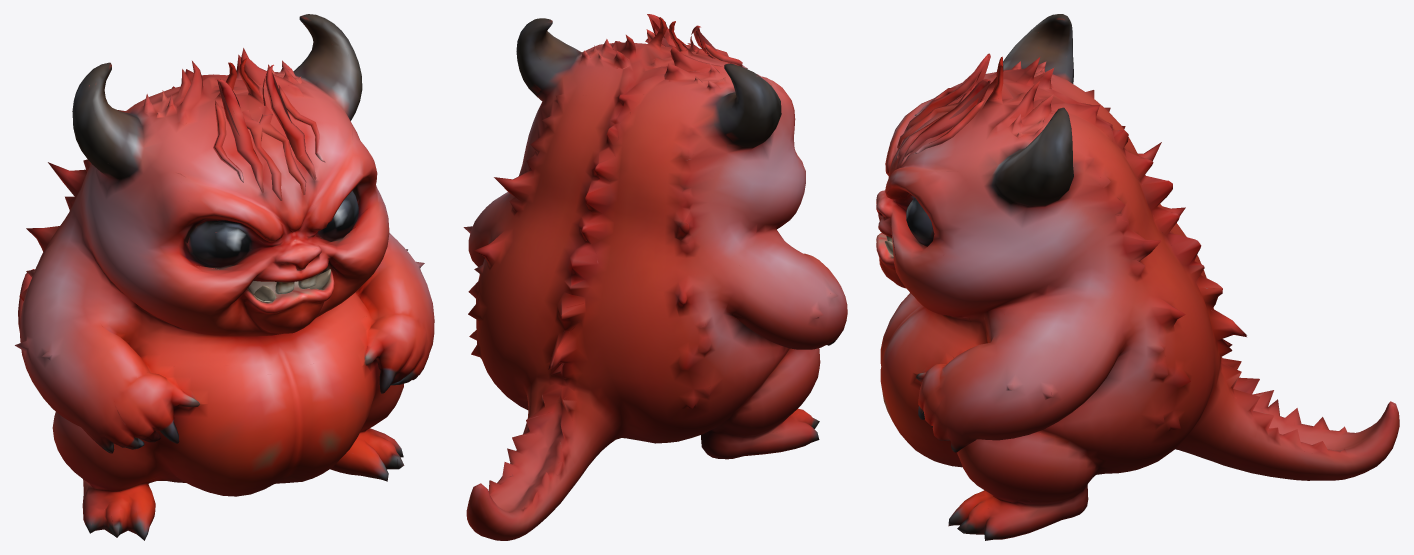
The model's file is DemonImp.obj.
3 views of the same model, side by side, from view 1: azimuth 30°, elevation 25°; view 2: azimuth 150°, elevation 25°; view 3: azimuth 270°, elevation 25° (orthographic). The views are drawn at different scales.
Visible parts, largest first — view 1: DemonImp; view 2: DemonImp; view 3: DemonImp.
Part boxes in pixels (x1,y1,x2,y2): DemonImp: (15,14,434,540); DemonImp: (463,14,847,540); DemonImp: (876,14,1399,540).
Bounding box in the file's own units: 0.7155 × 0.7615 × 0.8657.
